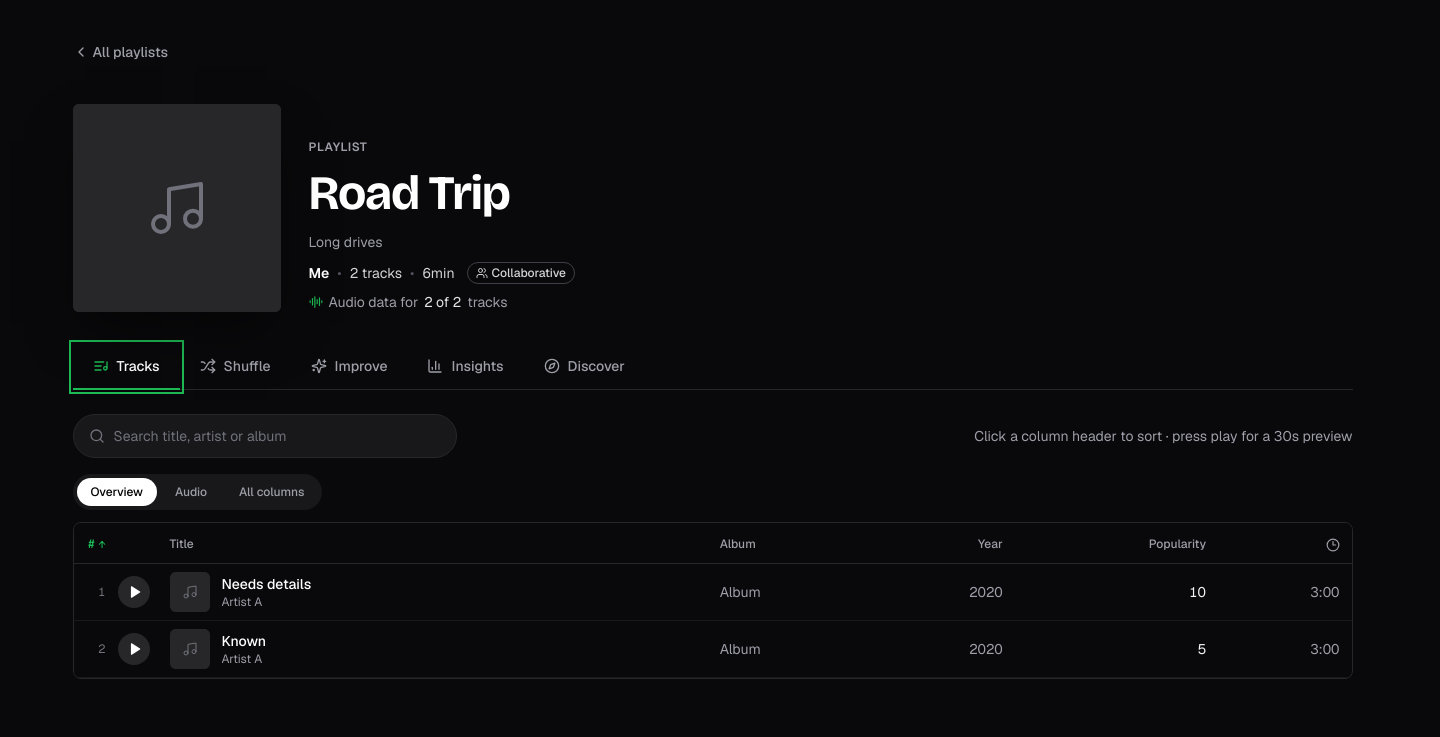
it: PlaylistView › loads the playlist, fills missing data in the background and switches tabs with the keyboard
Expected: the heading "Road Trip" is shown, [308,164,510,222]
Expected: the text "Needs details" is shown, [222,574,311,594]
Step 1. Press Arrowright
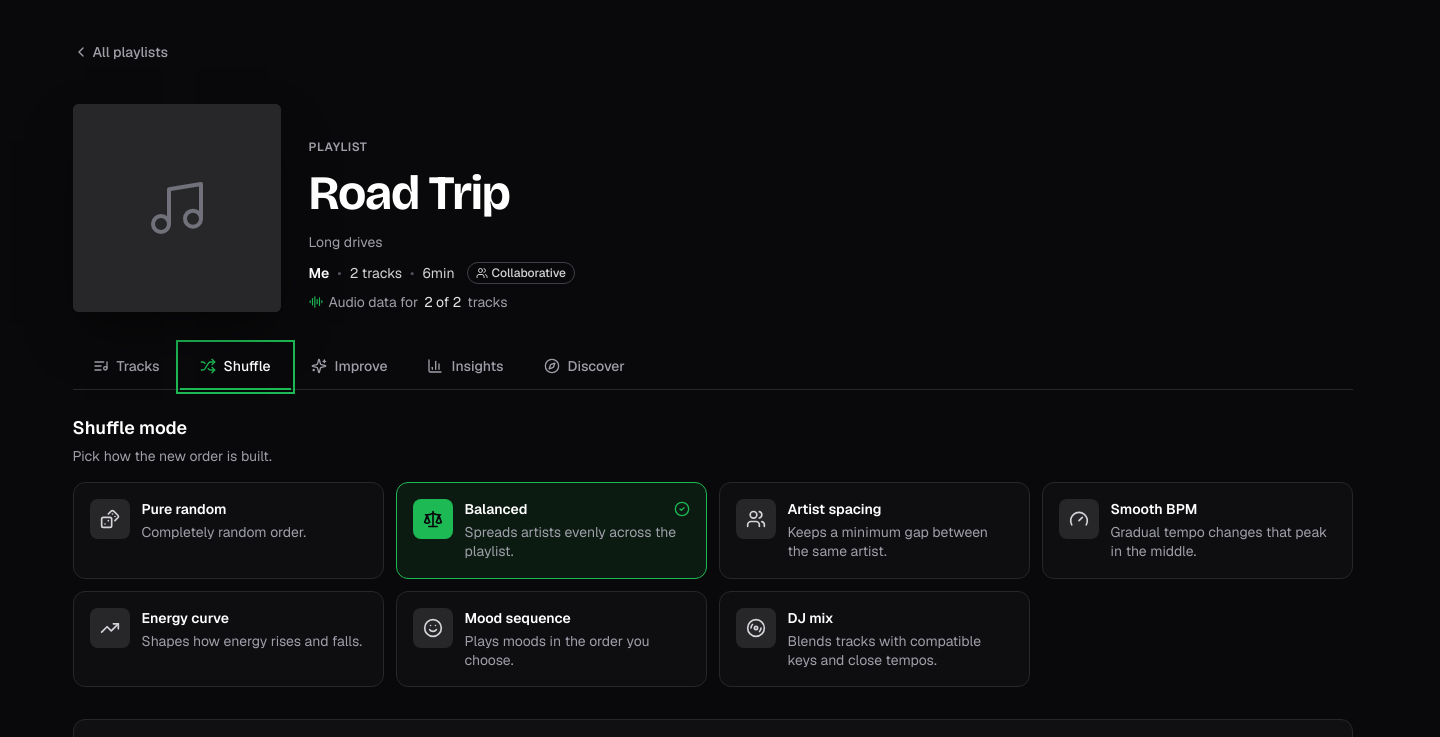
Result: the tab "Shuffle" is selected at [180,344,291,390]
Step 2. Press End
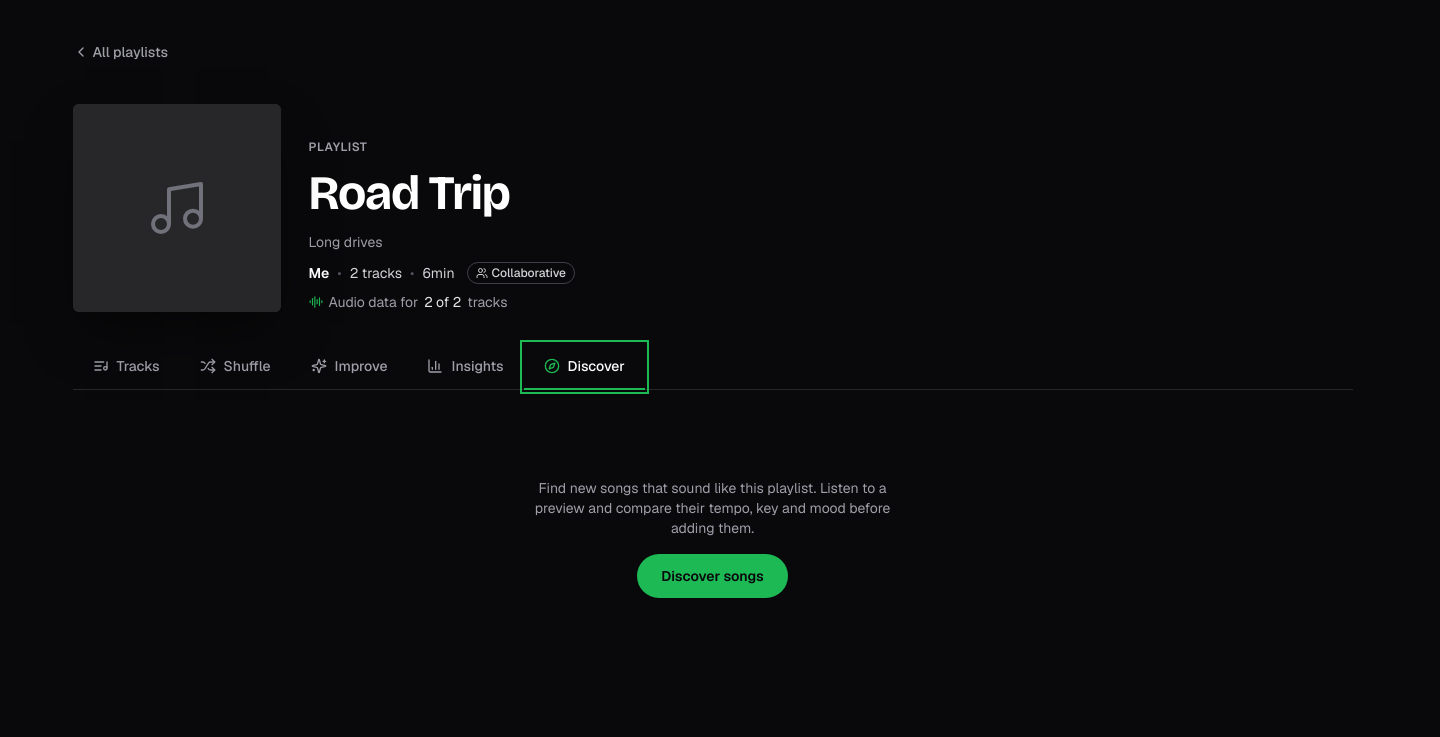
Result: the tab "Discover" is selected at [524,344,645,390]
Step 3. Press Home
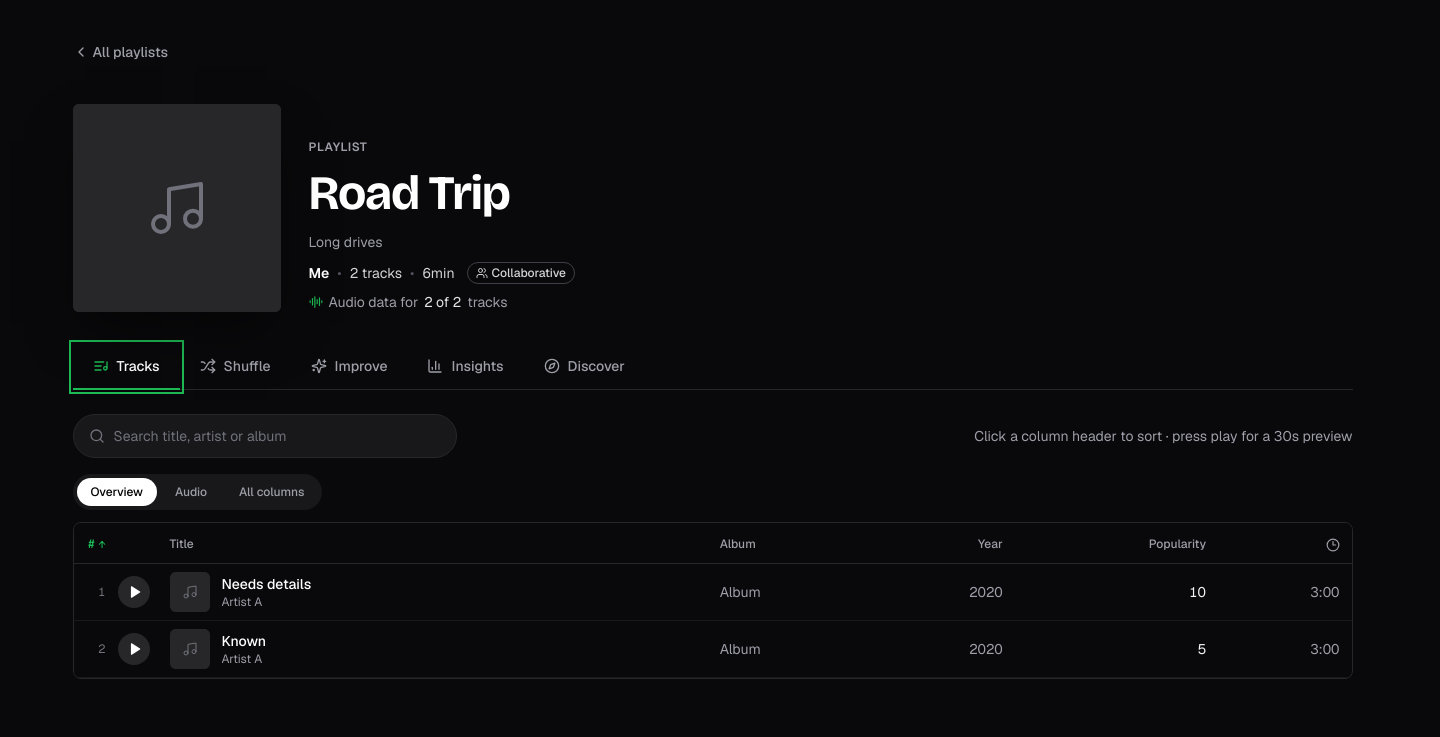
Step 4. Press Arrowleft
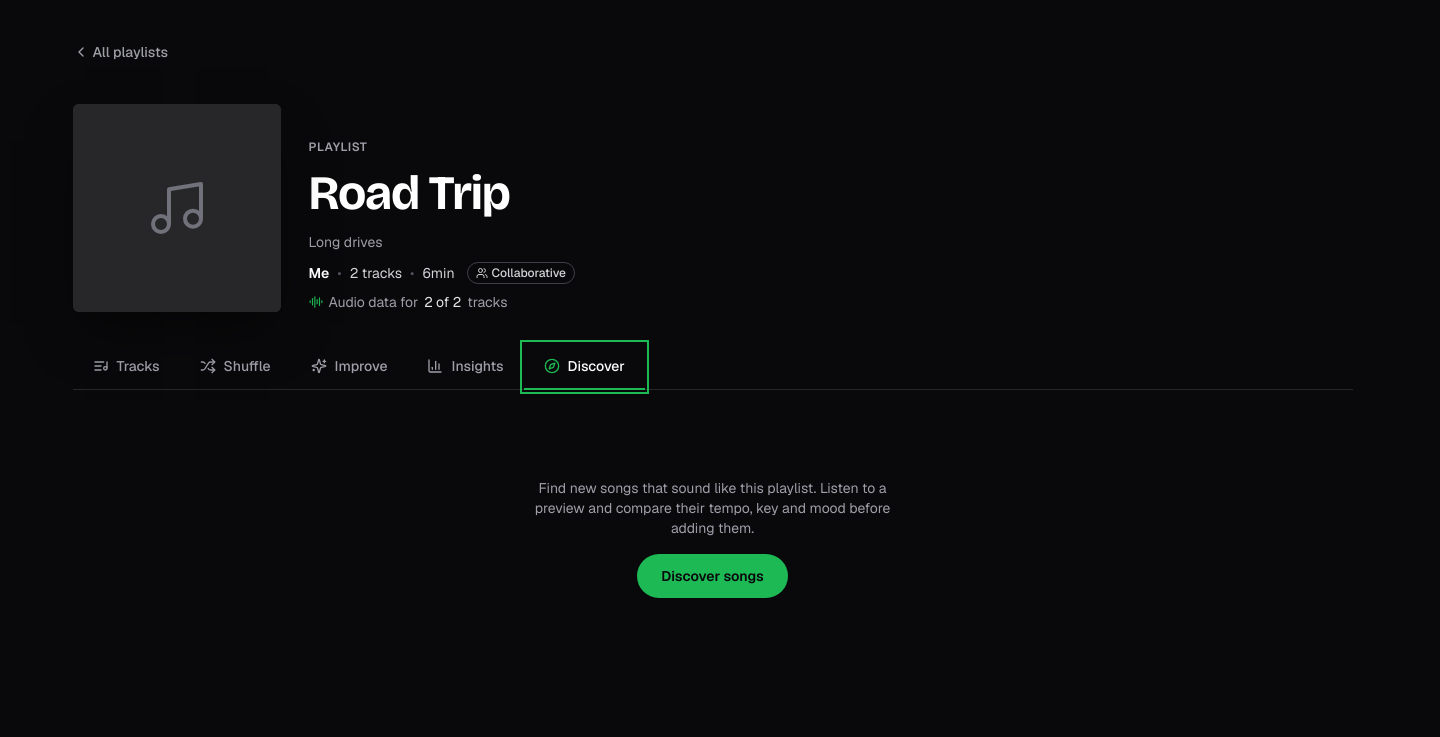
Result: the tab "Discover" is selected at [524,344,645,390]
Step 5. Click the tab "Improve" → click(349, 367), box [291,344,408,390]
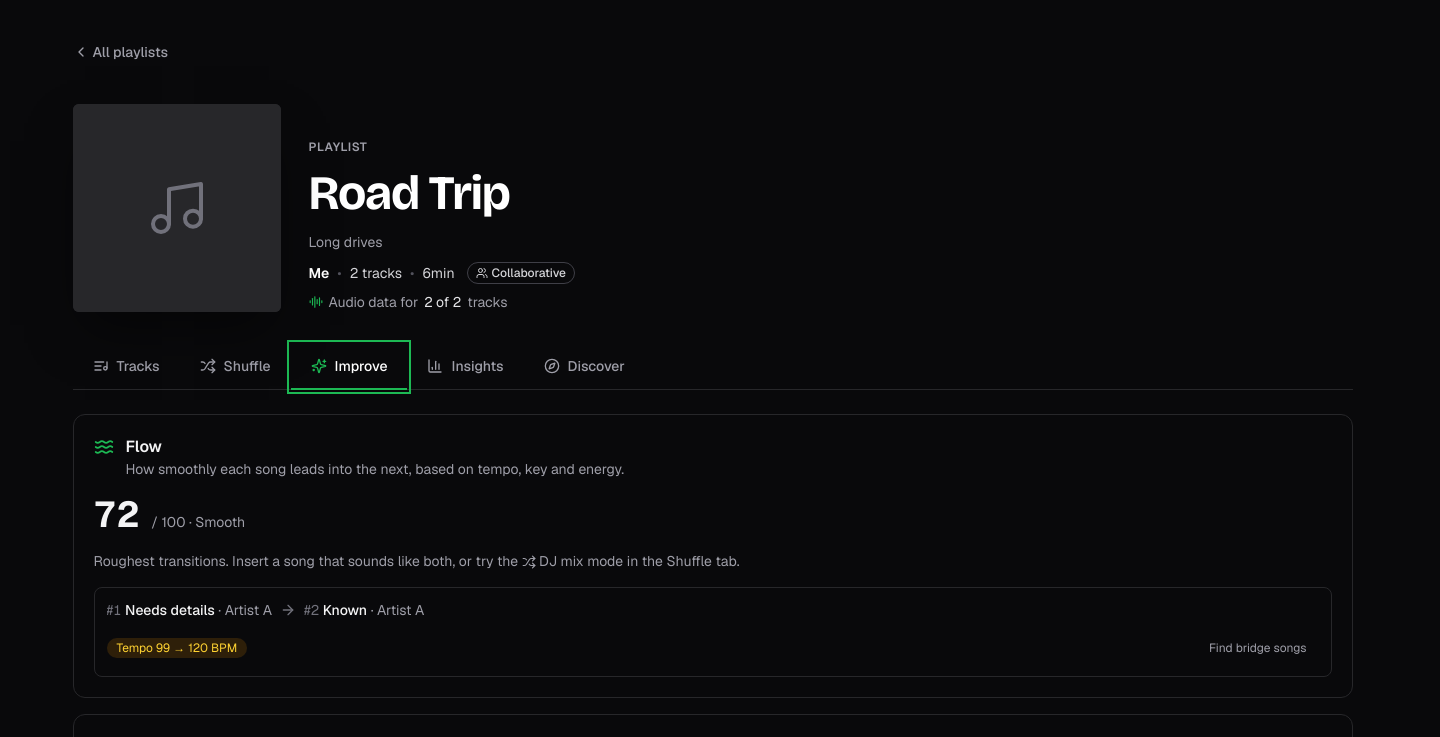
Result: the heading "Flow" is shown at [126,436,162,457]
Step 6. Click the tab "Insights" → click(466, 367), box [408,344,524,390]
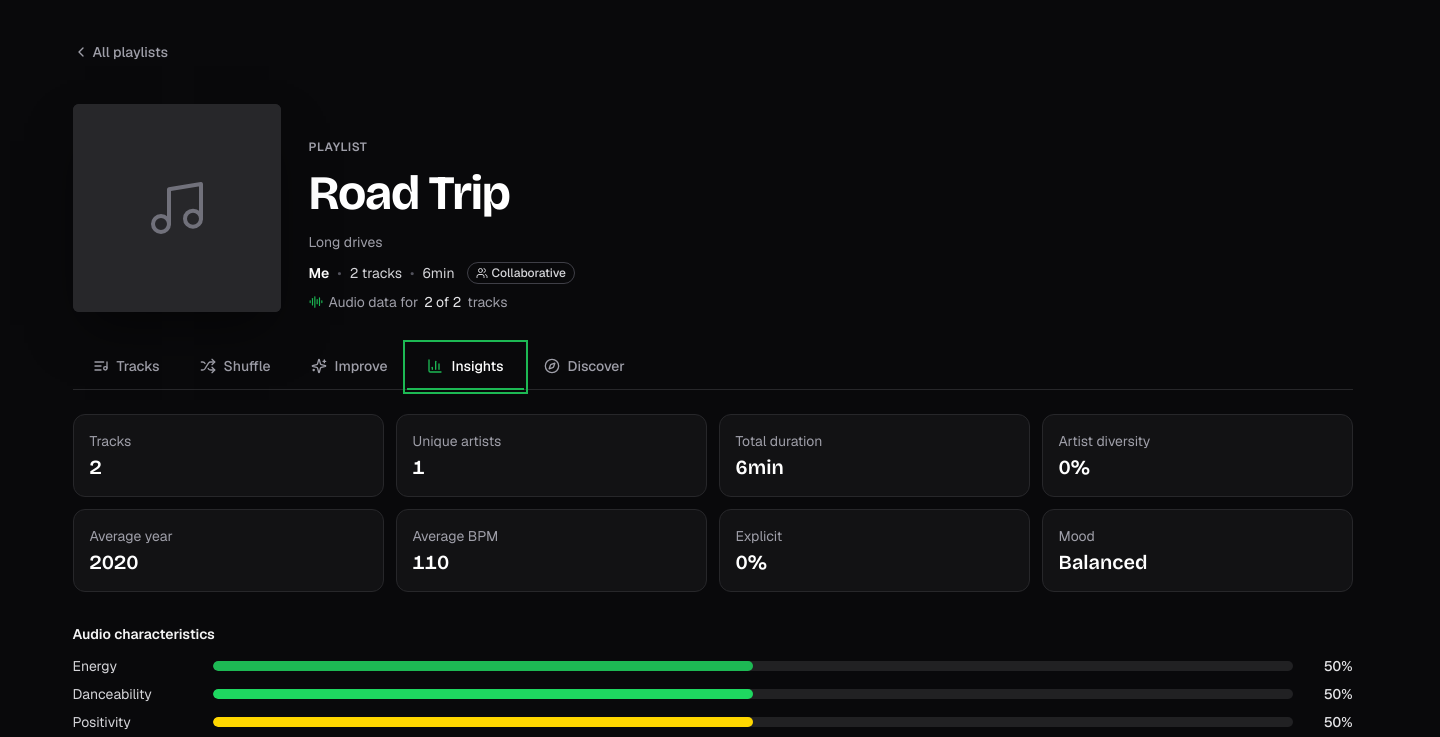
Result: the text "Unique artists" is shown at [412,432,501,450]
